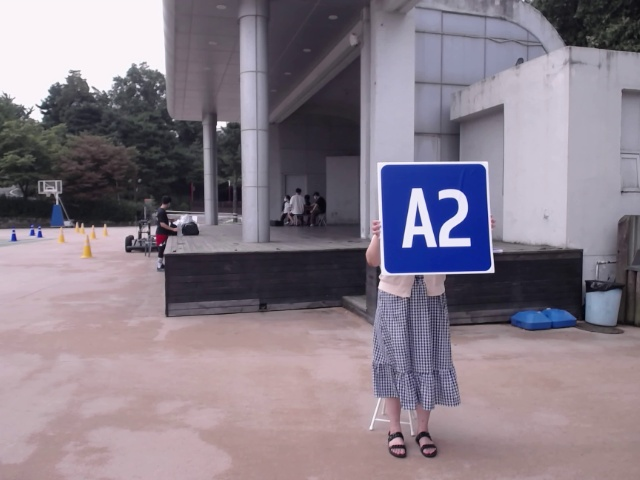delivery_a2: (380, 163, 493, 275)
